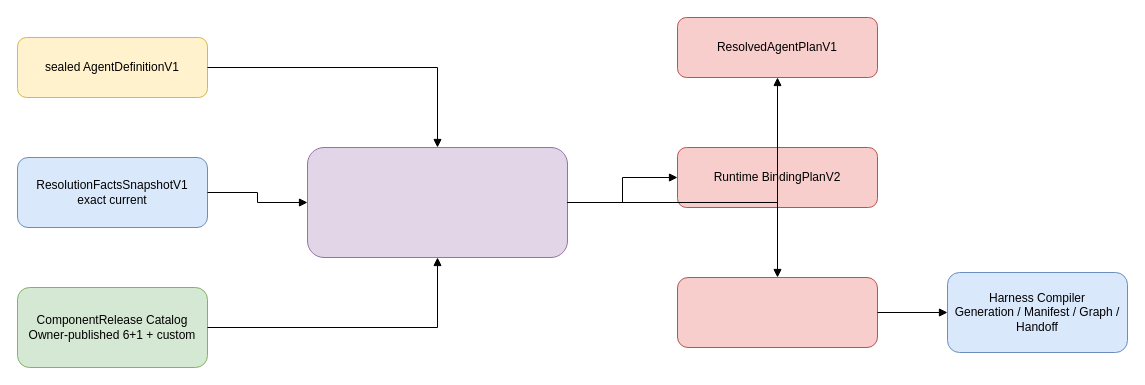
Some shapes in this 1145 by 385 pixel diagram are drawn without their labels. The box of each missing label's shape, as (x1, y1, x2, y2) in pixels:
Agent Assembler resolve version/capability/DAG/owner/locality/residual: (306, 146, 568, 258)
Harness AssemblyInputV1 十个 exact plan refs: (676, 276, 878, 348)
